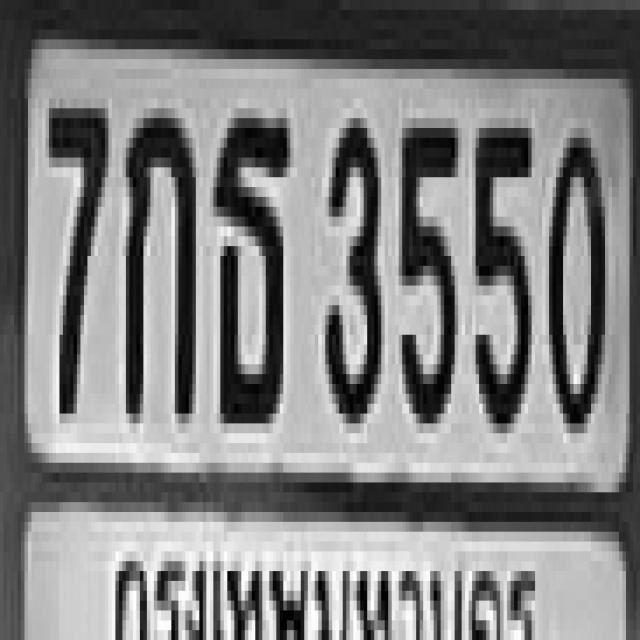0: (546, 128, 602, 423)
10GorGai: (122, 99, 192, 414)
3: (322, 109, 378, 414)
33ThorThong: (210, 109, 287, 414)
5: (472, 119, 528, 424), (398, 118, 454, 414)
7: (45, 99, 105, 404)
